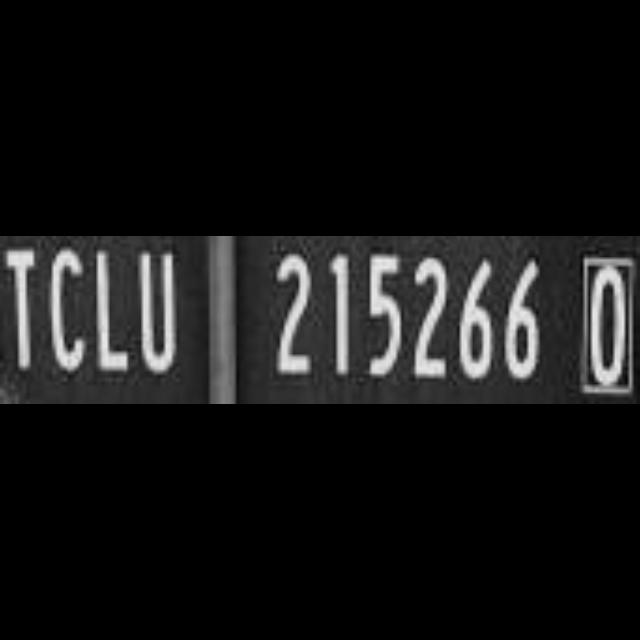0: (588, 258, 630, 392)
1: (322, 236, 360, 382)
2: (262, 237, 318, 386), (409, 245, 453, 388)
5: (362, 236, 406, 384)
6: (499, 247, 549, 387), (456, 250, 499, 390)
c: (45, 236, 91, 378)
l: (92, 236, 138, 384)
t: (1, 236, 42, 374)
u: (135, 236, 183, 382)
